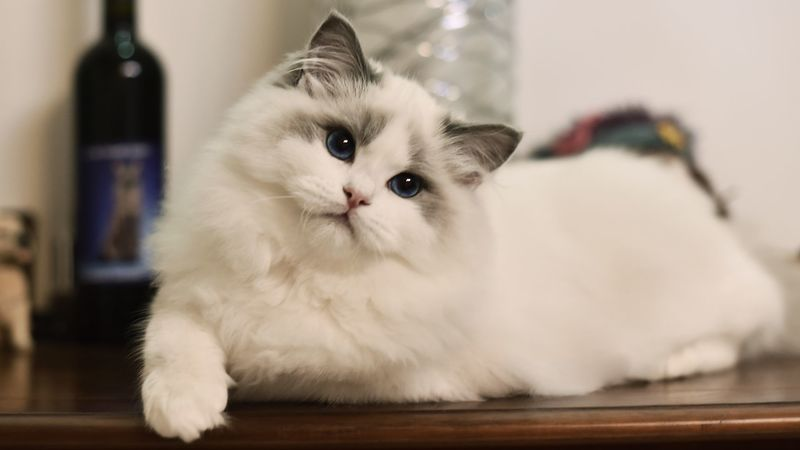cat: (216, 8, 533, 280)
